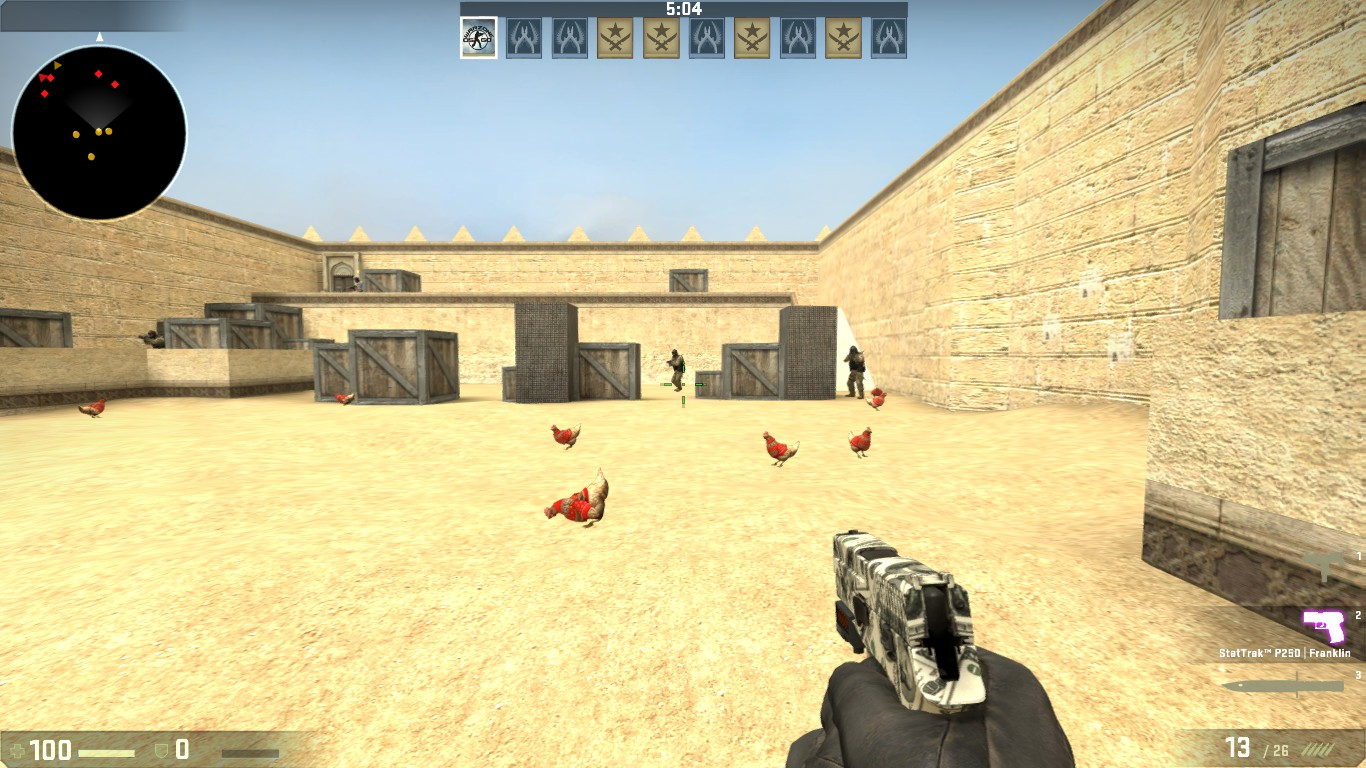c: (842, 345, 867, 397), (668, 348, 686, 391), (143, 329, 166, 350)
ch: (146, 330, 159, 339), (849, 345, 859, 356), (671, 348, 678, 356)
t: (351, 276, 364, 293)
